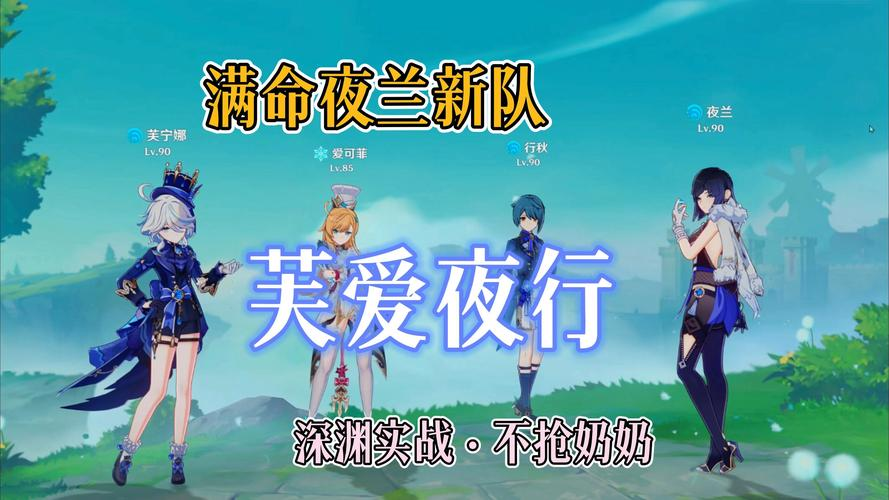夜兰: (667, 159, 769, 478)
